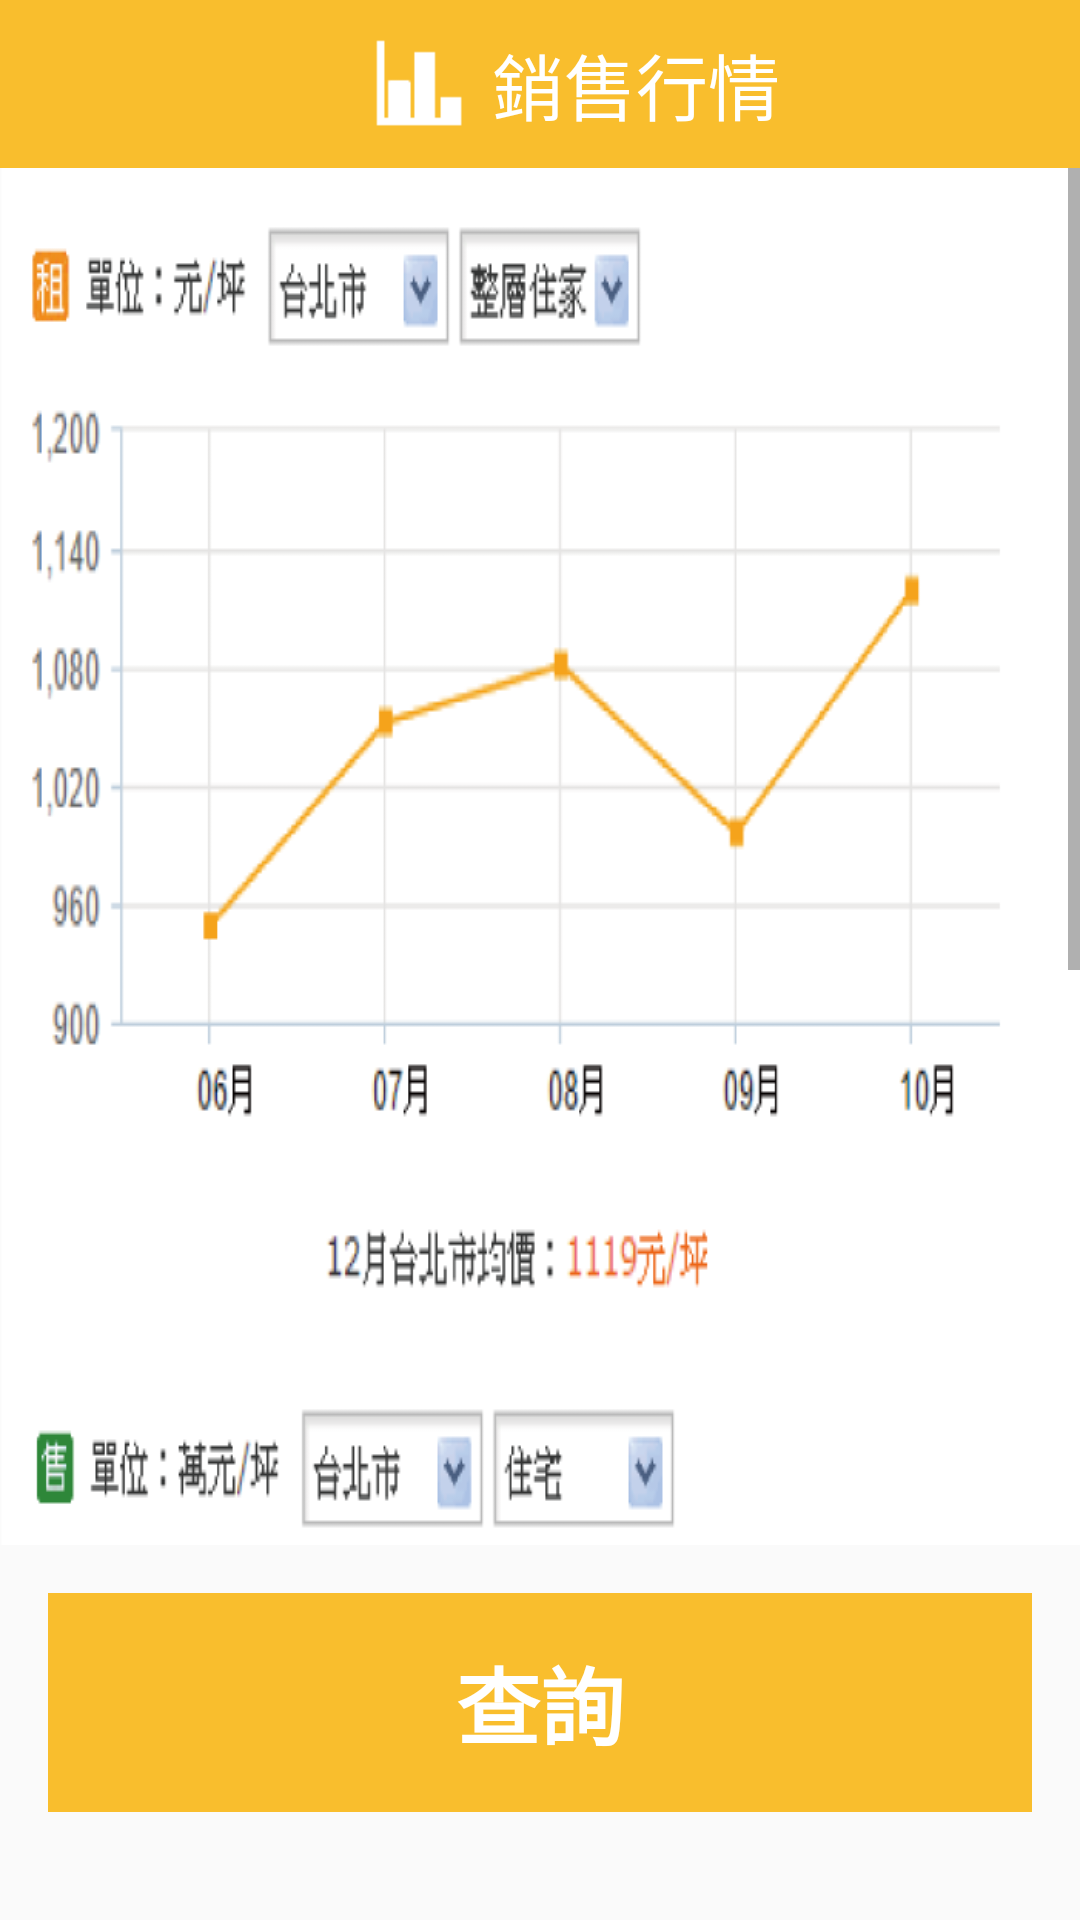

Named icons in this screenshot (1080px×1920px) and their centers, (x,y):
sidebar buttons barchart: (419,83)
